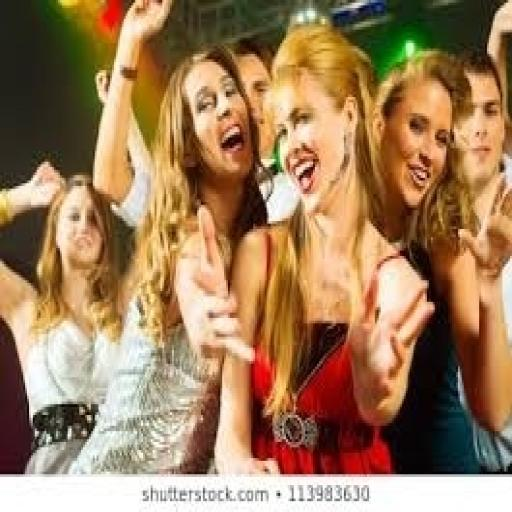dancing: (182, 19, 436, 477)
